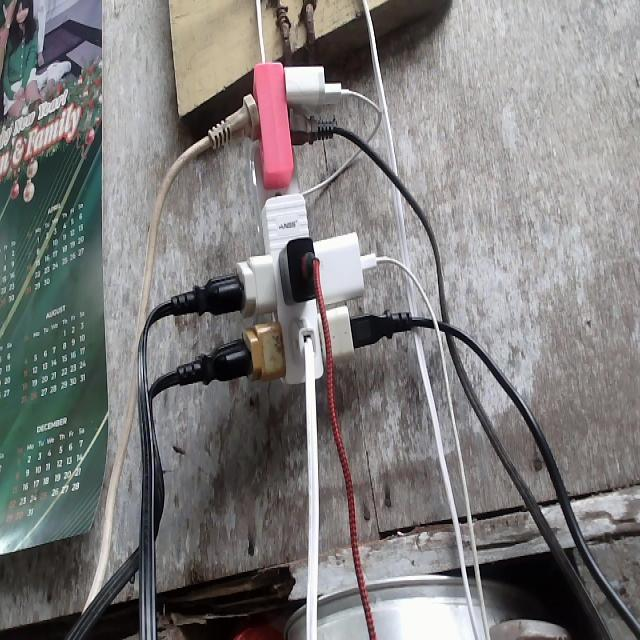-: (166, 57, 415, 387)
